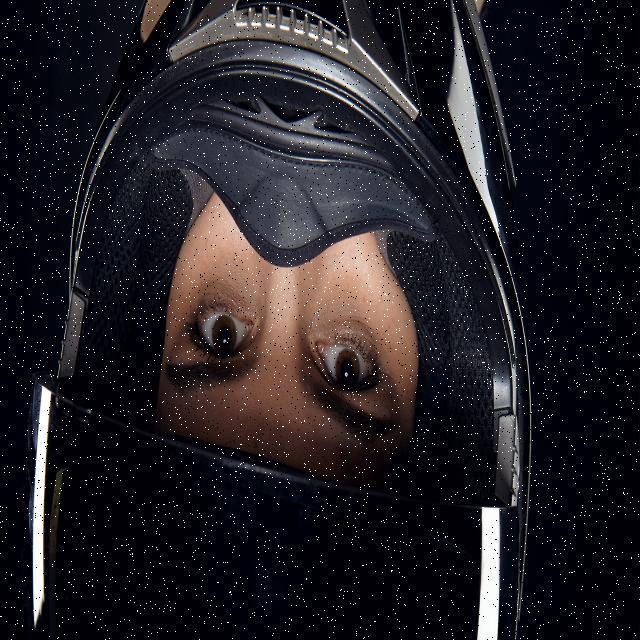Helmet: (23, 2, 536, 640)
